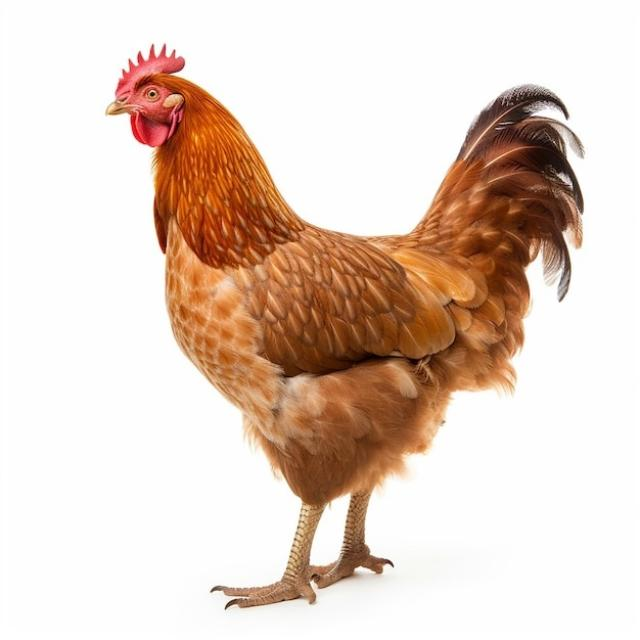Chicken: (104, 42, 585, 610)
